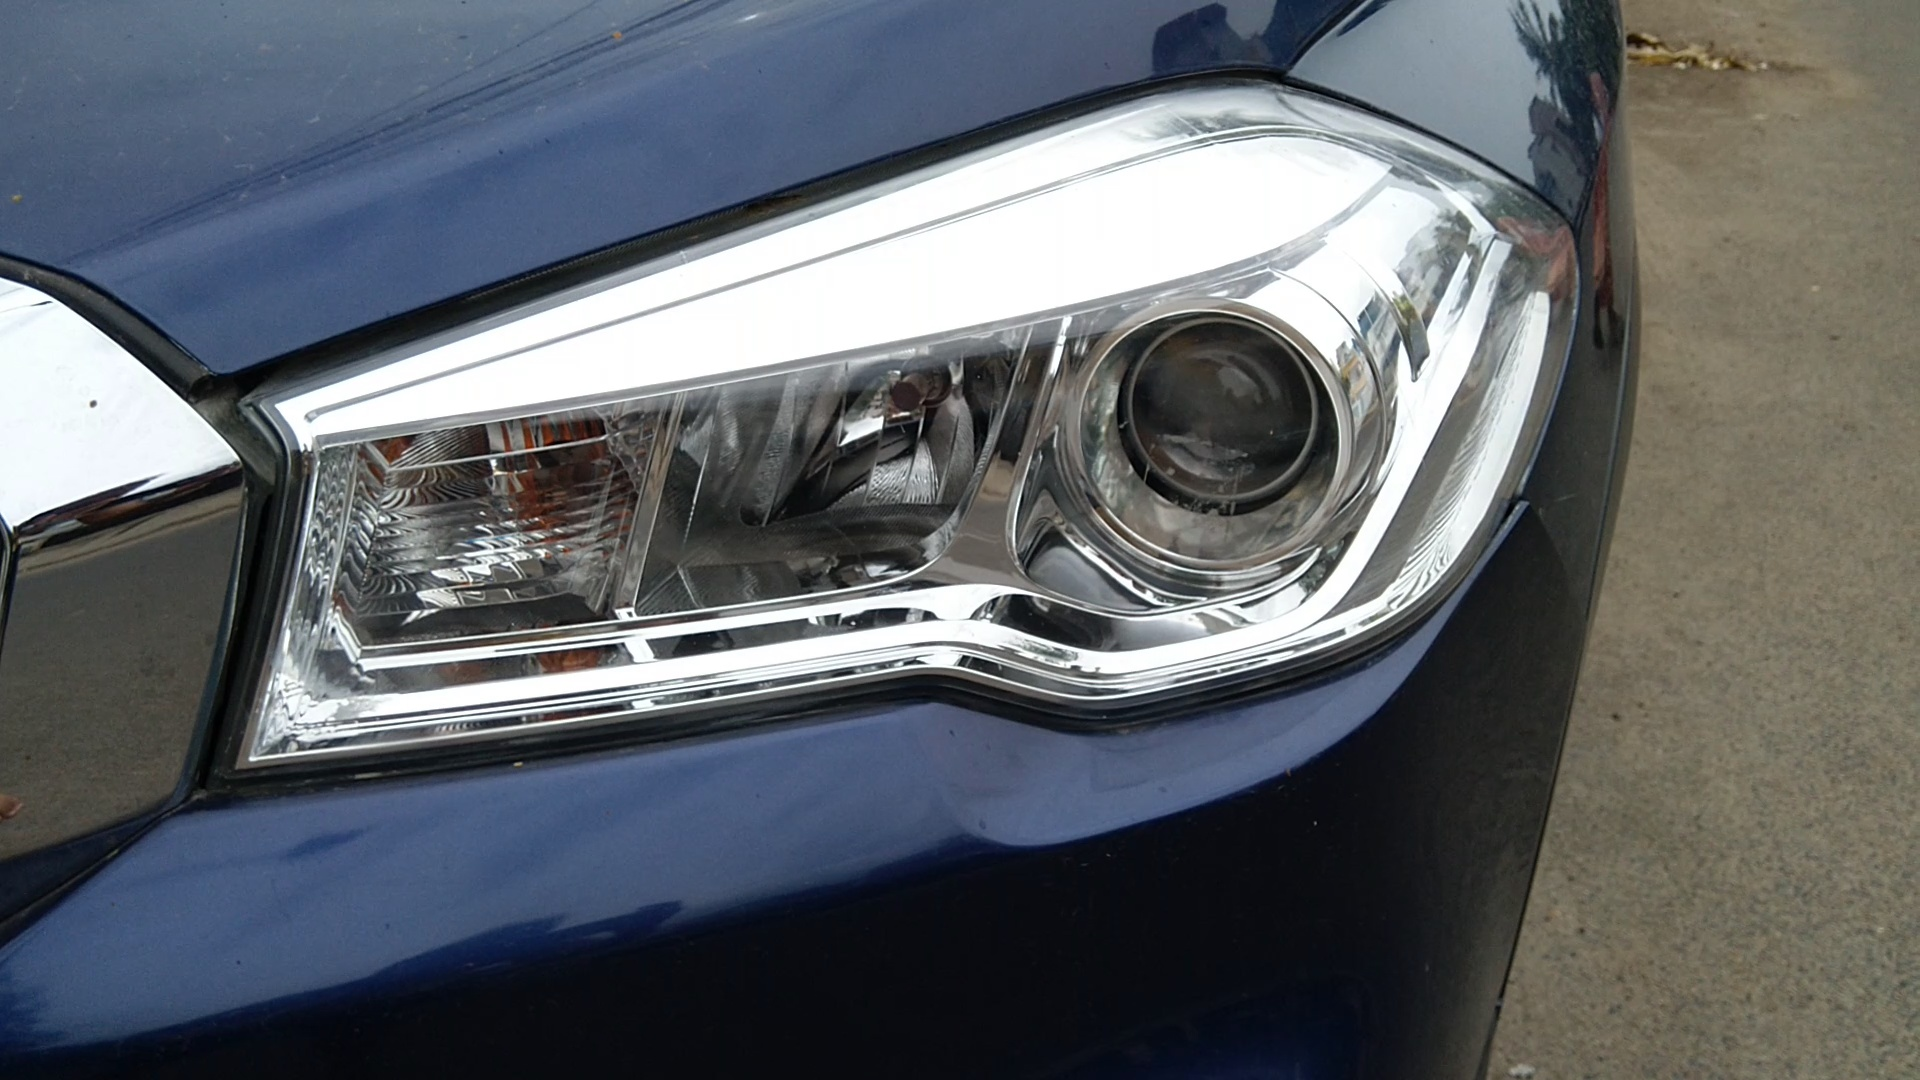headlamp: (164, 42, 1589, 872)
